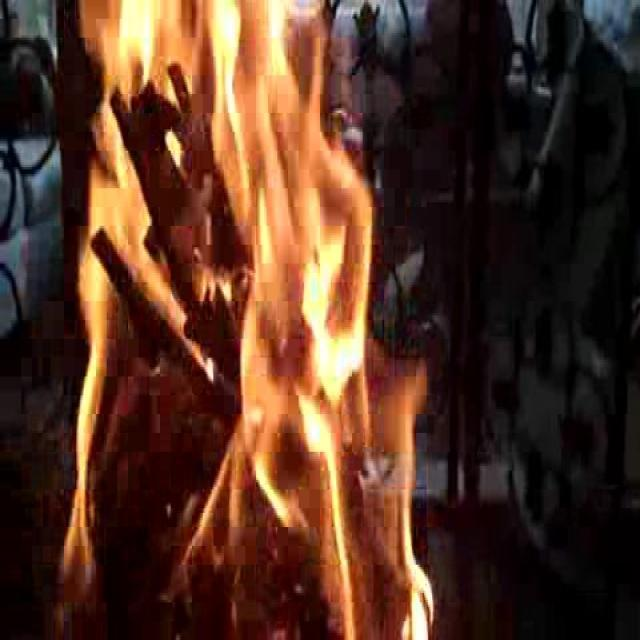Fire: (77, 6, 340, 588)
